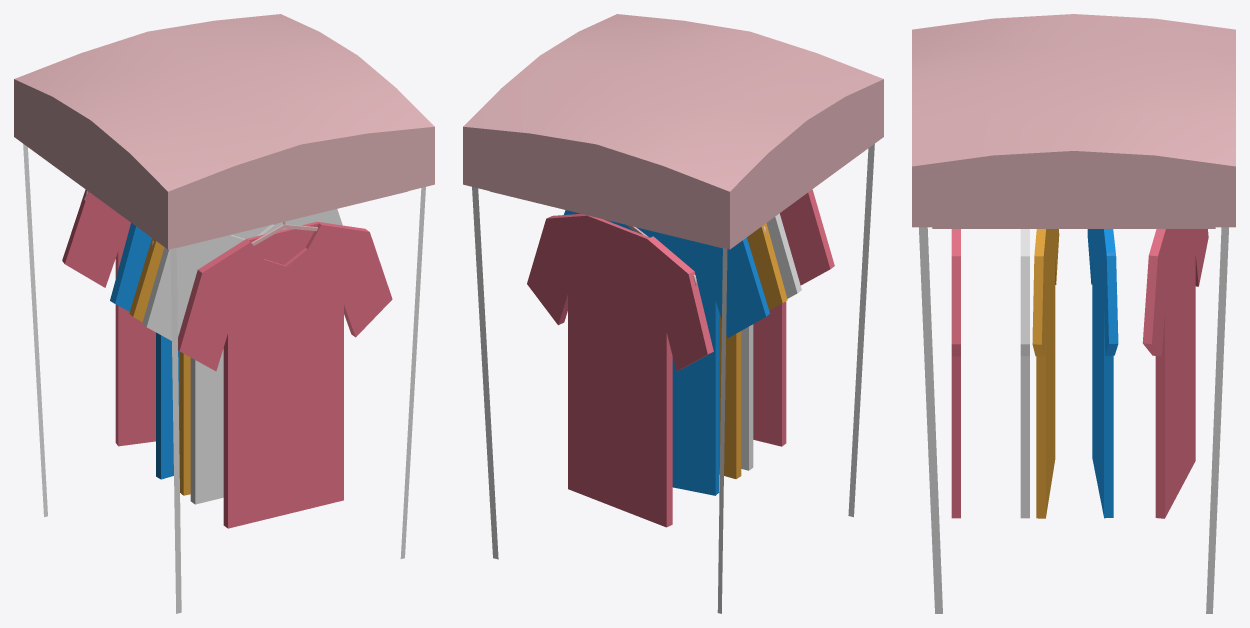
Rendered from SecadoraEletrica.fbx.
The picture shows the model from 3 angles, left to right: view 1: azimuth 30°, elevation 25°; view 2: azimuth 150°, elevation 25°; view 3: azimuth 270°, elevation 25°; orthographic projection. The views are drawn at different scales.
Visible parts, largest first — view 1: SecadoraEletrica; view 2: SecadoraEletrica; view 3: SecadoraEletrica.
Part boxes in pixels (x1=…): SecadoraEletrica: x1=14, y1=14, x2=434, y2=613; SecadoraEletrica: x1=463, y1=14, x2=883, y2=613; SecadoraEletrica: x1=912, y1=14, x2=1235, y2=613.
Size of the model in its own units: 200 by 325 by 200.
